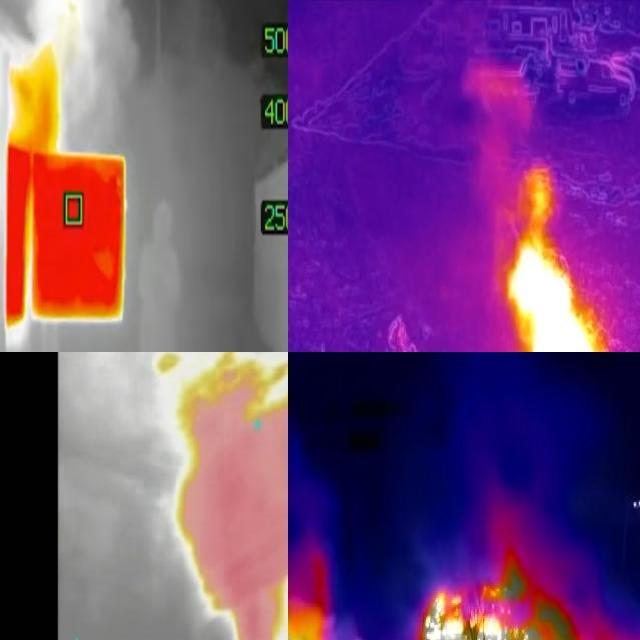fire: (160, 352, 290, 640), (412, 566, 579, 640), (507, 230, 601, 353), (9, 62, 59, 158), (289, 579, 339, 640)
